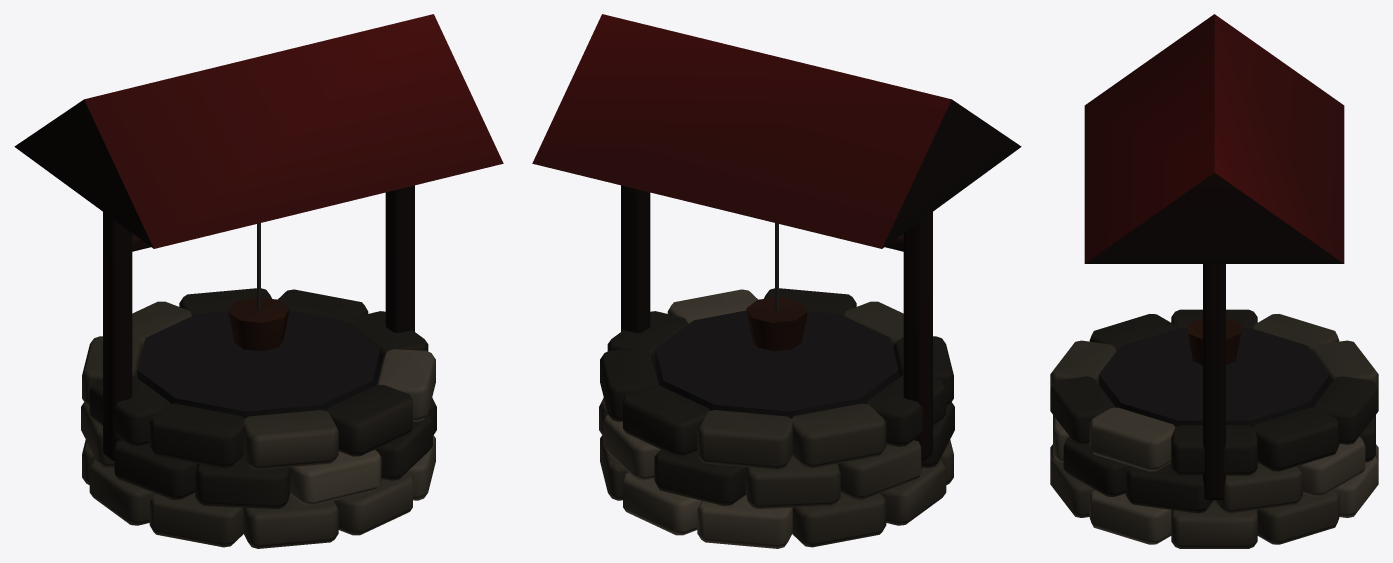
Rendered from Poco.fbx.
The picture shows the model from 3 angles, left to right: view 1: azimuth 30°, elevation 25°; view 2: azimuth 150°, elevation 25°; view 3: azimuth 270°, elevation 25°; orthographic projection. The views are drawn at different scales.
Visible parts, largest first — view 1: Poco; view 2: Poco; view 3: Poco.
Boxes of the visible parts, x1=… form: Poco: x1=14, y1=14, x2=503, y2=548; Poco: x1=532, y1=14, x2=1021, y2=548; Poco: x1=1050, y1=14, x2=1378, y2=548.
Size of the model in its own units: 2.6 by 2.98 by 2.28.
